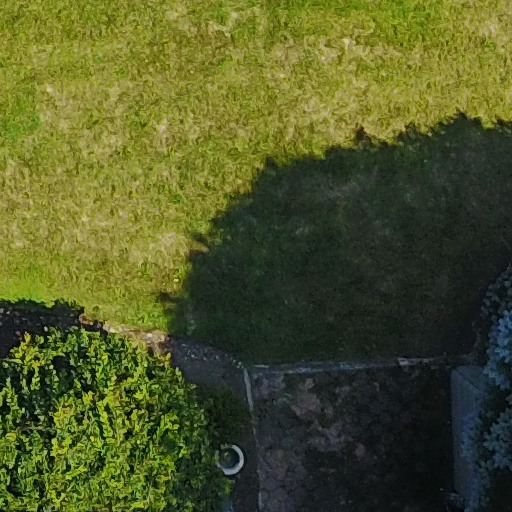container: (208, 437, 253, 483)
